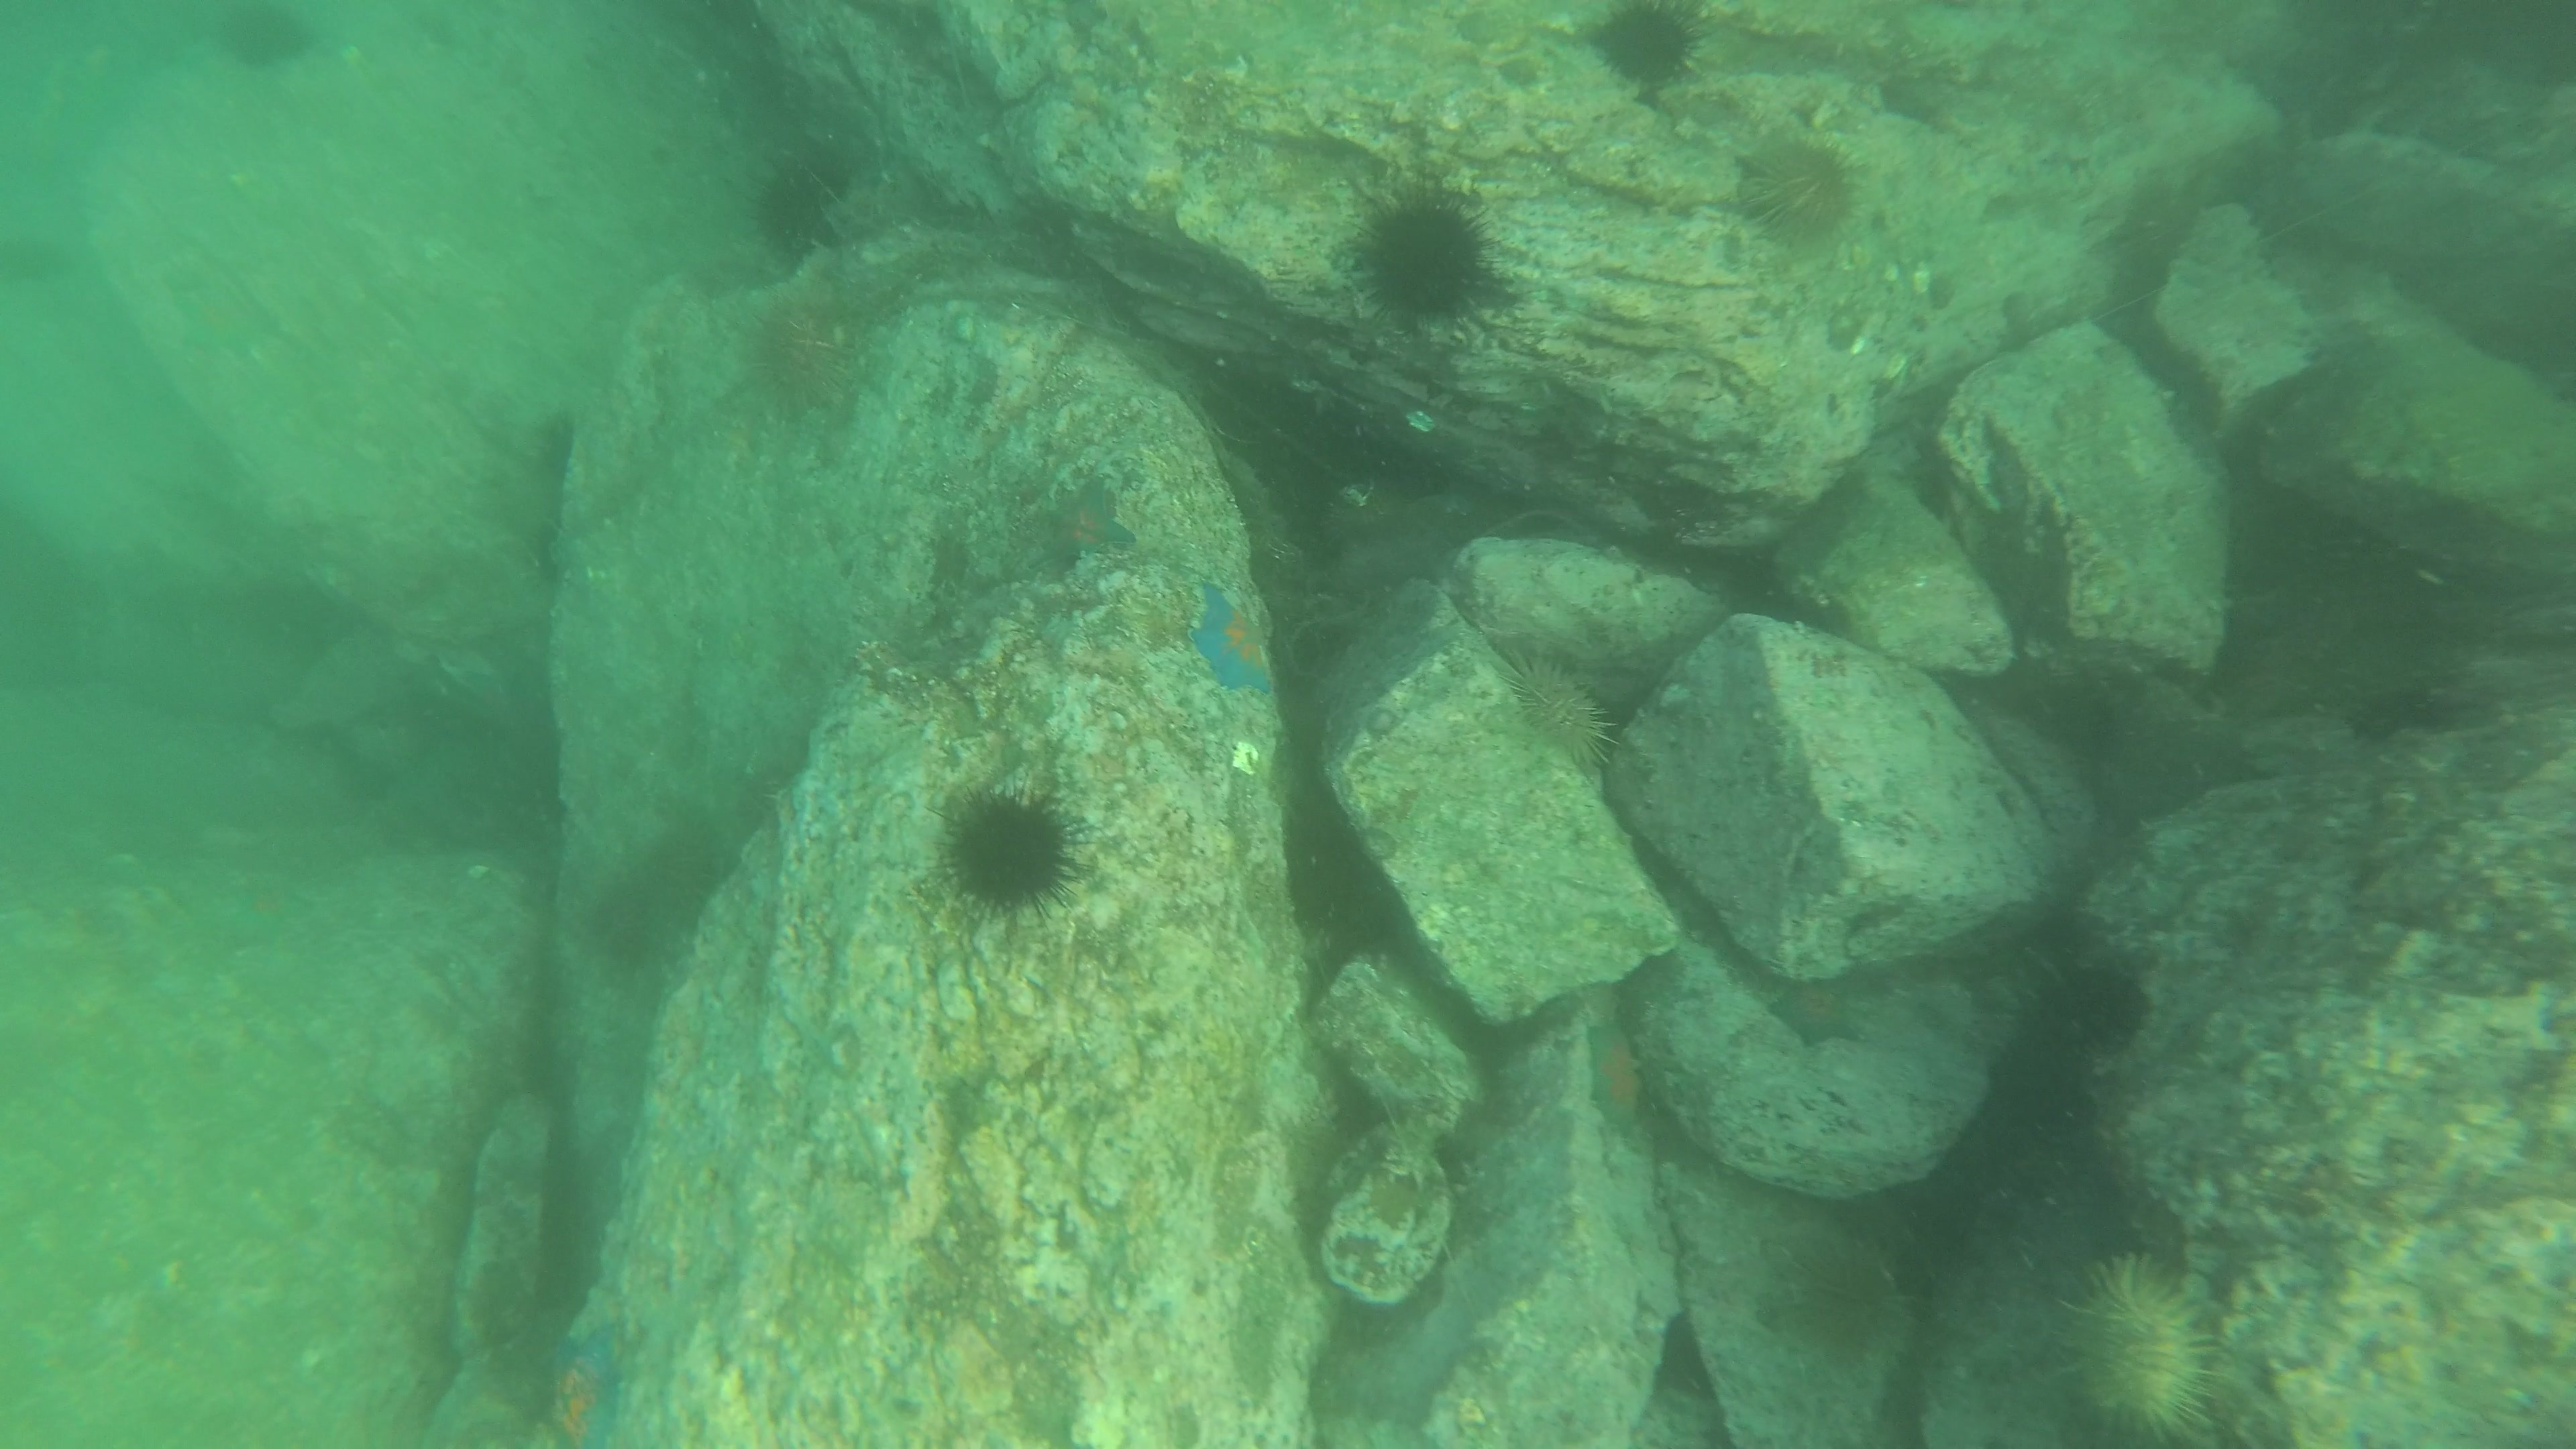echinus: (2049, 1251, 2227, 1445), (1343, 177, 1504, 331), (932, 780, 1085, 918), (1773, 1230, 1916, 1371), (1490, 648, 1621, 782), (1730, 126, 1868, 251), (741, 294, 874, 421), (745, 145, 860, 264), (2033, 952, 2155, 1062), (1580, 2, 1713, 94), (205, 2, 324, 78)
starfish: (1306, 1279, 1488, 1438), (533, 1318, 639, 1449), (161, 260, 283, 370), (1180, 575, 1284, 702), (1575, 1005, 1658, 1145), (1033, 469, 1139, 571), (1759, 970, 1877, 1054)
